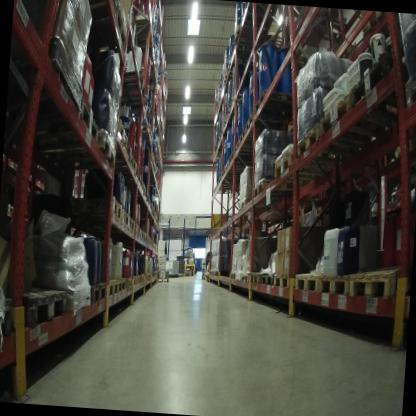pallet: (343, 47, 415, 135), (14, 34, 91, 104), (318, 95, 393, 161), (8, 279, 75, 347), (38, 120, 117, 175), (76, 3, 136, 63), (295, 125, 361, 174), (272, 152, 350, 189), (57, 89, 106, 144), (348, 258, 402, 306), (53, 189, 128, 222), (250, 92, 311, 122), (250, 178, 314, 206), (244, 109, 300, 137), (316, 263, 351, 299), (0, 294, 24, 345), (79, 277, 110, 316), (128, 15, 160, 52), (238, 126, 278, 152), (231, 135, 270, 161), (68, 281, 94, 319), (225, 150, 261, 175), (401, 55, 416, 114), (294, 267, 320, 297), (233, 25, 269, 46), (239, 195, 269, 219), (272, 267, 297, 295), (113, 114, 133, 148), (225, 59, 249, 84), (126, 91, 149, 115), (123, 212, 141, 242), (220, 73, 243, 95), (229, 94, 250, 116), (125, 71, 147, 91), (105, 272, 121, 296), (258, 270, 276, 290), (249, 267, 266, 288), (128, 155, 140, 181), (141, 122, 155, 142), (125, 139, 136, 164), (134, 224, 146, 242), (240, 269, 252, 285), (136, 166, 144, 190), (140, 178, 148, 201), (157, 275, 171, 287), (117, 274, 126, 292), (129, 275, 140, 287), (167, 270, 178, 281), (124, 274, 132, 289), (137, 271, 144, 287), (214, 270, 224, 279), (210, 268, 218, 279), (229, 269, 236, 281), (177, 272, 184, 283), (204, 276, 210, 284)
